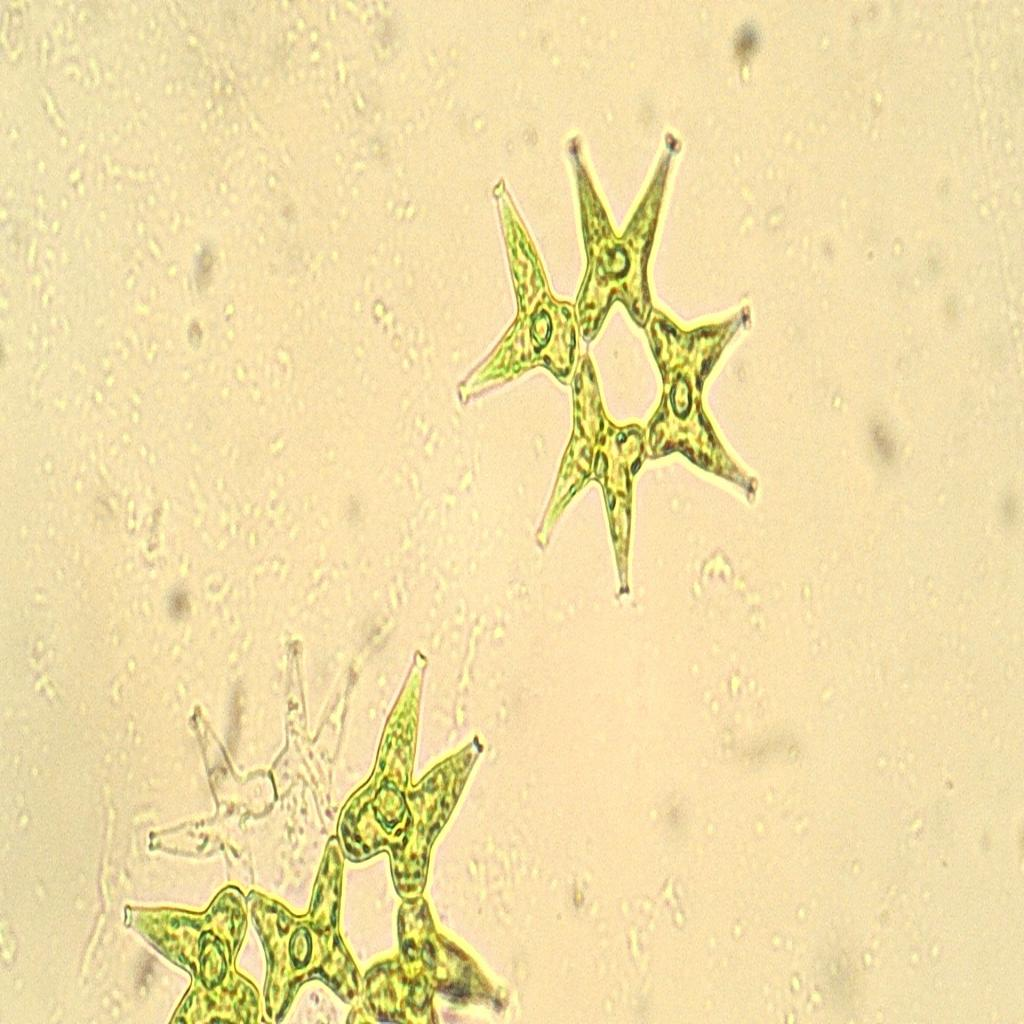Pediastrum_CT: (427, 96, 803, 627)
